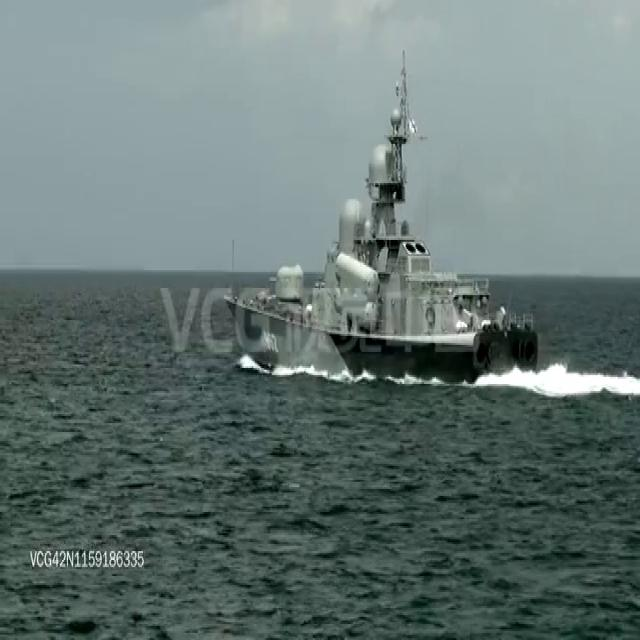navalvessels: (227, 48, 538, 382)
